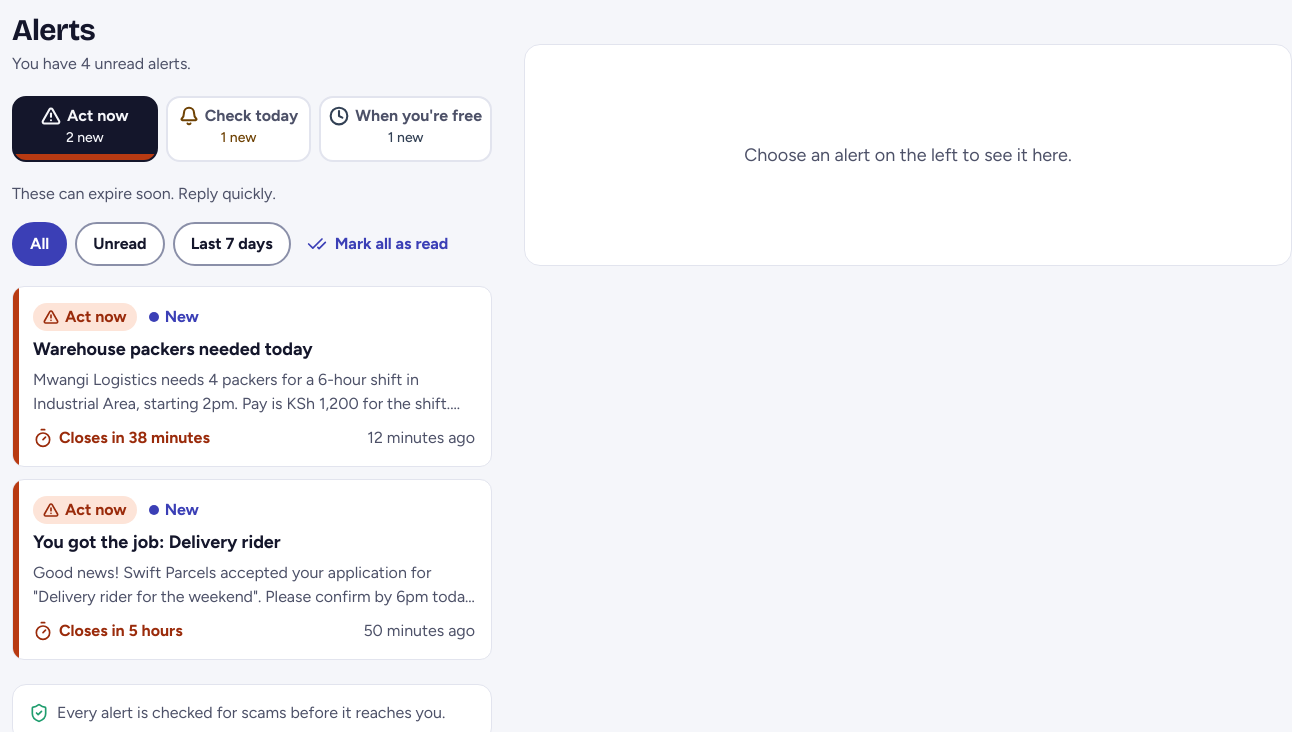
Test case: Alerts dashboard › opens the details, moves focus there and marks the alert as read
Expected: the text "You have 4 unread alerts." is shown, [12,54,191,73]
Step 1. Click the button "Warehouse packers needed today" → coordinates (252, 376), box [12,286,492,467]
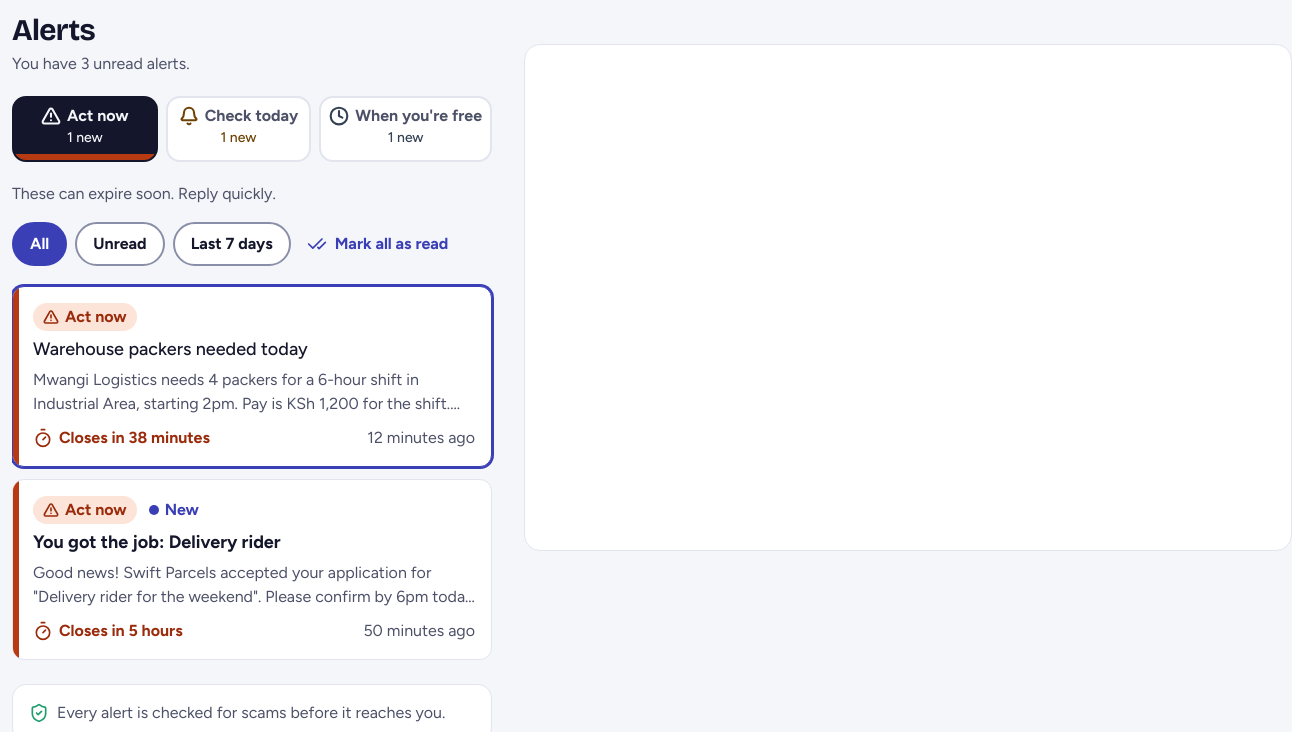
Expected: the text "You have 3 unread alerts." is shown, [12,54,190,73]
